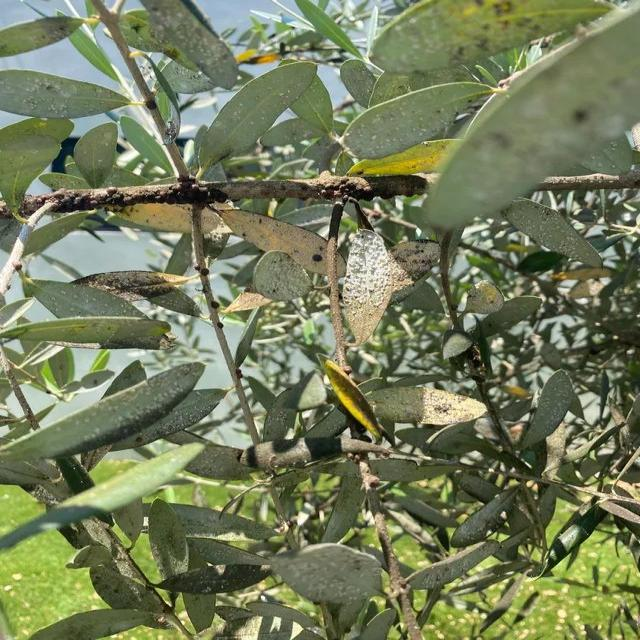Black Scale: (0, 176, 231, 221), (308, 176, 397, 202), (144, 97, 158, 112), (210, 299, 219, 310), (312, 253, 322, 262), (200, 267, 209, 276), (217, 321, 223, 329)
